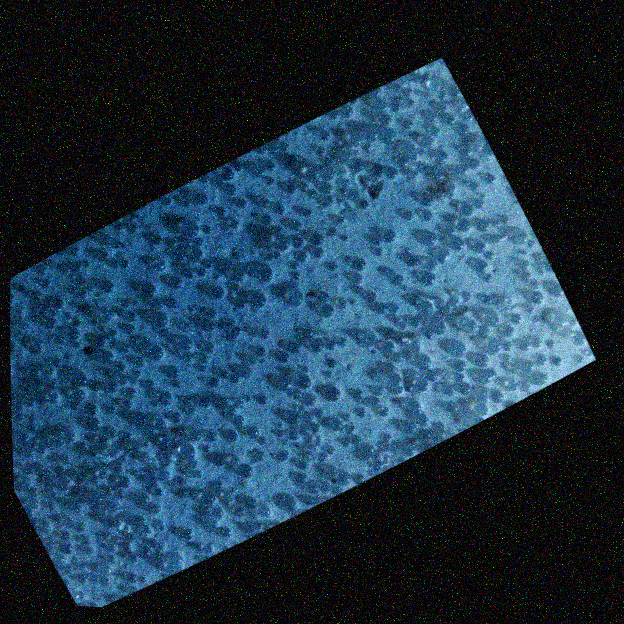GrassBeadSeg: (10, 225, 487, 554), (27, 320, 585, 597), (61, 136, 425, 463), (80, 285, 455, 544), (155, 159, 438, 488), (220, 210, 503, 538), (64, 193, 431, 443), (146, 170, 454, 463), (52, 224, 455, 443), (203, 194, 548, 447), (13, 309, 435, 511), (190, 134, 435, 440), (178, 272, 494, 492), (47, 239, 486, 395), (103, 209, 466, 383), (48, 247, 451, 403), (257, 294, 539, 512), (88, 253, 421, 431), (96, 252, 430, 426), (45, 316, 515, 432), (150, 341, 468, 512), (183, 165, 404, 409), (153, 339, 467, 496), (28, 282, 240, 507), (198, 165, 321, 552), (57, 333, 328, 508), (210, 246, 384, 517), (171, 232, 406, 431), (10, 327, 312, 477), (177, 368, 440, 535), (188, 324, 496, 466), (149, 285, 363, 485), (158, 222, 302, 515), (29, 341, 218, 561), (151, 235, 379, 417), (278, 204, 475, 394), (259, 226, 495, 378), (76, 368, 335, 505), (55, 339, 330, 461), (232, 324, 490, 445), (199, 246, 433, 368), (277, 261, 419, 459), (88, 345, 260, 504), (200, 250, 306, 504), (264, 292, 485, 412), (232, 231, 324, 509), (127, 329, 237, 561), (45, 316, 563, 365), (167, 235, 325, 378), (156, 376, 294, 529), (319, 302, 477, 430), (67, 307, 219, 440), (278, 245, 410, 389), (24, 360, 206, 458), (126, 259, 236, 420), (278, 328, 376, 508), (161, 282, 578, 323), (52, 298, 165, 445), (180, 296, 248, 539), (462, 202, 544, 397), (304, 157, 366, 405), (132, 387, 302, 473), (149, 317, 219, 509), (420, 164, 469, 438), (211, 266, 274, 476), (247, 382, 472, 438), (74, 462, 255, 531), (405, 370, 548, 455), (181, 443, 349, 510), (135, 390, 450, 425), (175, 235, 209, 553), (76, 372, 211, 451), (296, 251, 339, 484), (217, 324, 270, 510), (131, 375, 216, 489), (220, 395, 337, 473), (207, 352, 258, 529), (205, 291, 265, 441), (197, 323, 448, 358), (247, 372, 340, 459), (209, 437, 290, 528), (258, 229, 397, 281), (317, 259, 488, 300), (30, 368, 141, 430), (124, 389, 238, 449), (238, 353, 490, 380), (362, 87, 462, 149), (327, 334, 403, 414), (164, 182, 237, 261), (262, 140, 330, 224), (261, 220, 304, 352), (342, 154, 408, 240), (279, 428, 364, 493), (351, 208, 436, 271), (37, 287, 138, 339), (156, 453, 226, 526), (302, 424, 375, 491), (12, 307, 50, 435), (54, 239, 120, 312), (353, 399, 421, 466), (155, 205, 226, 269), (181, 177, 247, 245), (320, 272, 385, 334), (191, 468, 272, 516), (78, 343, 164, 388), (342, 339, 419, 389), (312, 266, 336, 425), (171, 410, 240, 463), (313, 106, 352, 198), (154, 364, 208, 430), (248, 344, 268, 519), (440, 277, 539, 312), (74, 259, 113, 346), (483, 317, 584, 350), (32, 263, 123, 299), (218, 291, 304, 328), (398, 257, 437, 338), (62, 215, 134, 258), (364, 281, 403, 360), (294, 236, 375, 270), (148, 455, 224, 491), (221, 258, 243, 381), (353, 342, 390, 415), (258, 147, 298, 213), (173, 224, 274, 250), (439, 102, 479, 167), (169, 365, 206, 435), (455, 235, 535, 267), (215, 396, 267, 443), (459, 172, 495, 231), (399, 125, 440, 176), (504, 345, 551, 389), (385, 339, 402, 459), (432, 156, 480, 198), (247, 393, 315, 422), (425, 257, 461, 311), (11, 382, 43, 442), (11, 282, 26, 408), (33, 246, 75, 290), (76, 509, 121, 550), (119, 347, 167, 383), (529, 307, 586, 337), (470, 214, 526, 244), (301, 412, 351, 445), (450, 229, 527, 250), (394, 100, 450, 128), (324, 132, 362, 172), (300, 171, 334, 215), (222, 159, 243, 229), (122, 538, 157, 580), (436, 114, 471, 155), (154, 313, 193, 349), (112, 525, 157, 556), (145, 195, 174, 243), (486, 249, 532, 279), (315, 406, 344, 452), (177, 223, 202, 274), (231, 392, 268, 423), (119, 283, 156, 314), (108, 267, 194, 280), (53, 329, 72, 386), (65, 563, 91, 602), (370, 105, 396, 143), (95, 553, 131, 580), (337, 166, 350, 240), (102, 220, 154, 238), (328, 445, 351, 483), (53, 496, 72, 542), (95, 362, 126, 390), (254, 409, 308, 425), (95, 321, 134, 343), (300, 458, 319, 503), (32, 484, 117, 494), (254, 142, 279, 175), (57, 475, 131, 486), (73, 441, 84, 511), (73, 326, 168, 334), (41, 448, 64, 481), (380, 301, 434, 315), (29, 471, 57, 498), (375, 303, 396, 338), (55, 552, 80, 581), (469, 313, 499, 336), (134, 435, 177, 451), (167, 297, 192, 324), (89, 380, 110, 412), (509, 316, 518, 390), (153, 341, 170, 380), (90, 572, 111, 603), (103, 508, 146, 522), (110, 238, 130, 268), (394, 273, 419, 297), (121, 340, 145, 365), (104, 281, 123, 312), (277, 428, 321, 441), (151, 542, 181, 560), (185, 257, 213, 276), (108, 350, 162, 359), (175, 396, 207, 411), (93, 474, 106, 510), (44, 520, 65, 542), (204, 377, 220, 405), (48, 379, 84, 391), (41, 501, 56, 529), (25, 469, 53, 484), (118, 355, 144, 371), (407, 295, 436, 309), (175, 326, 189, 354), (99, 459, 123, 475), (109, 426, 118, 468), (26, 463, 66, 472), (354, 126, 379, 140), (393, 312, 421, 324), (153, 316, 169, 336), (128, 383, 155, 394), (510, 361, 521, 388), (516, 304, 533, 321), (107, 401, 133, 412), (92, 436, 106, 456), (92, 380, 118, 390), (159, 551, 179, 563), (67, 571, 88, 582), (513, 359, 533, 370), (116, 475, 125, 499), (32, 436, 46, 451), (277, 233, 291, 248), (123, 391, 136, 407), (124, 323, 131, 352), (92, 467, 108, 479), (523, 365, 531, 389), (154, 433, 173, 443), (98, 333, 106, 356), (130, 571, 148, 581), (155, 310, 167, 325), (504, 339, 523, 348), (83, 441, 97, 453), (521, 338, 535, 349), (202, 256, 209, 275), (73, 389, 85, 400), (268, 247, 279, 259), (537, 338, 555, 345), (276, 240, 283, 257), (23, 476, 31, 490), (435, 154, 446, 163), (155, 553, 166, 562), (174, 276, 182, 288), (168, 298, 178, 307), (105, 281, 114, 291), (373, 235, 382, 245), (59, 552, 66, 564), (125, 325, 135, 333), (417, 414, 423, 427), (105, 433, 111, 445), (70, 329, 78, 338), (534, 336, 542, 345), (65, 476, 71, 487), (145, 284, 151, 295), (424, 415, 430, 426), (58, 464, 66, 472), (146, 379, 153, 388), (171, 276, 174, 297), (104, 356, 114, 362), (403, 248, 411, 255), (67, 541, 72, 551), (119, 477, 125, 485), (58, 484, 67, 489), (119, 343, 124, 352), (38, 463, 44, 470), (205, 352, 210, 360), (108, 387, 114, 392), (62, 544, 66, 551), (291, 261, 295, 268), (30, 492, 36, 495)
